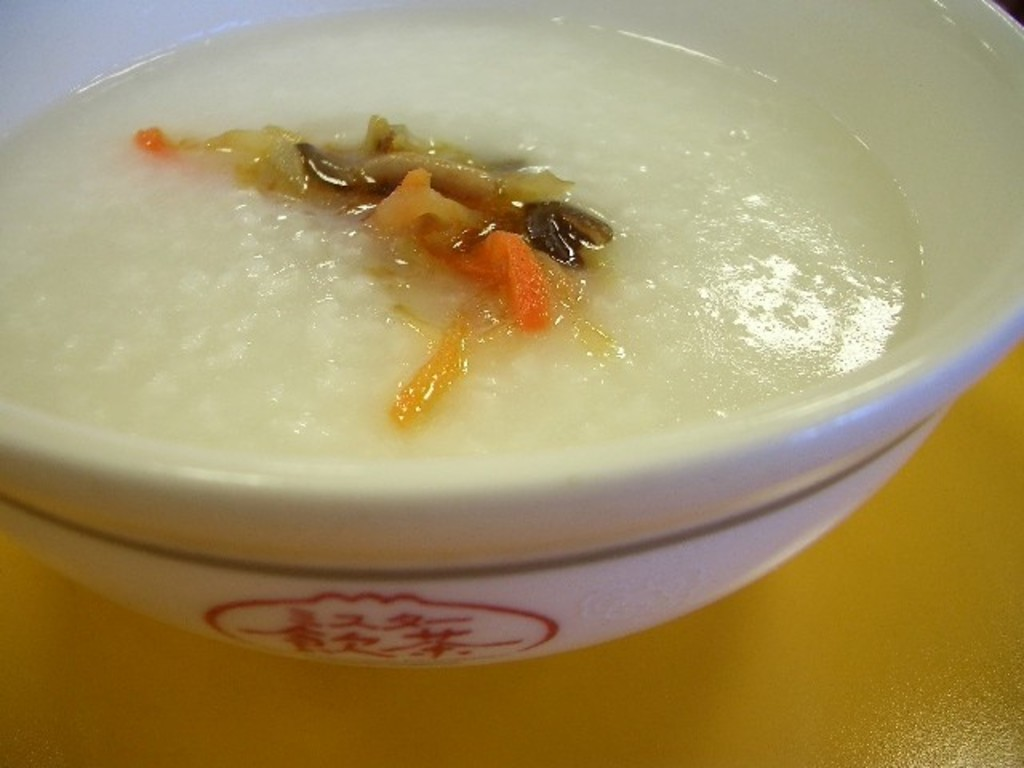person: (135, 118, 616, 432)
